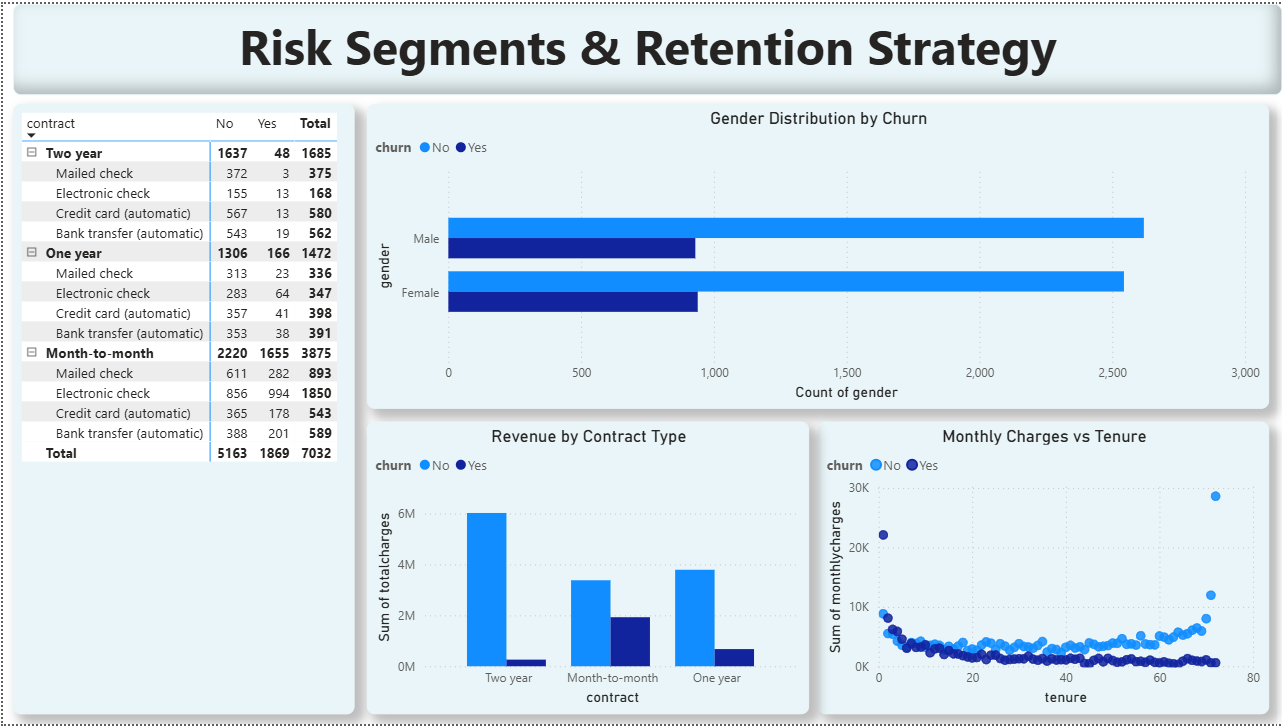

The dashboard page shown, as its layout file describes it:
{"tool":"powerbi","page":{"name":"Risk Segments & Retention Strategy","canvas":[1280,720],"ordinal":2},"visuals":[{"type":"textbox","box":[10,0,1270,91.2],"z":0},{"type":"pivotTable","title":"Gender vs Churn","fields":{"Rows":["cleaned_telco_churn.contract","cleaned_telco_churn.paymentmethod"],"Values":["CountNonNull(cleaned_telco_churn.contract)"],"Columns":["cleaned_telco_churn.churn"]},"box":[10,100,341.2,610],"z":1},{"type":"clusteredBarChart","title":"Gender Distribution by Churn","fields":{"Series":["cleaned_telco_churn.churn"],"Y":["CountNonNull(cleaned_telco_churn.gender)"],"Category":["cleaned_telco_churn.gender"]},"box":[363.8,100,902.5,305],"z":2},{"type":"scatterChart","title":"Monthly Charges vs Tenure","fields":{"Series":["cleaned_telco_churn.churn"],"X":["cleaned_telco_churn.tenure"],"Y":["Sum(cleaned_telco_churn.monthlycharges)"]},"box":[815,417.5,451.2,292.5],"z":3},{"type":"clusteredColumnChart","title":"Revenue by Contract Type","fields":{"Category":["cleaned_telco_churn.contract"],"Y":["Sum(cleaned_telco_churn.totalcharges)"],"Series":["cleaned_telco_churn.churn"]},"box":[363.8,417.5,442.5,292.5],"z":4}]}

Visuals, with their boxes in screenshot pixels (x1, y1, x2, y2), scaled from the page's 1280x720 canvas onto the 1282x726 screenshot:
textbox: rect(10, 0, 1281, 92)
"Gender vs Churn" pivotTable: rect(10, 101, 352, 716)
"Gender Distribution by Churn" clusteredBarChart: rect(364, 101, 1268, 408)
"Monthly Charges vs Tenure" scatterChart: rect(816, 421, 1268, 716)
"Revenue by Contract Type" clusteredColumnChart: rect(364, 421, 808, 716)
